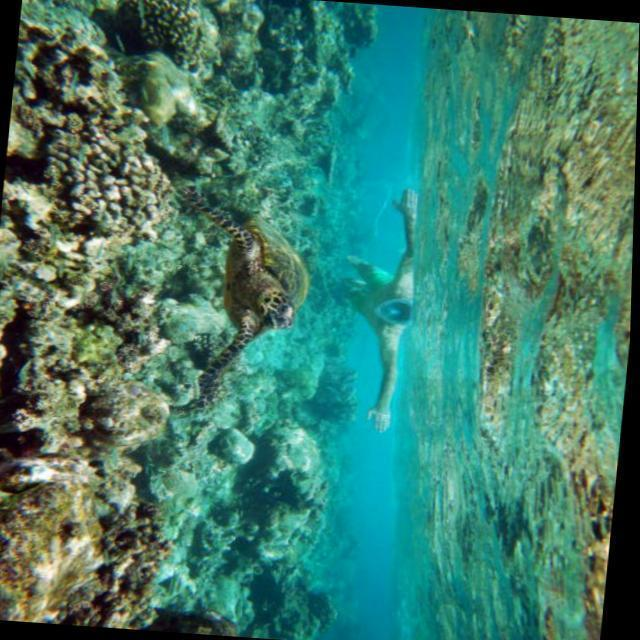Dead Coral: (0, 0, 215, 623)
